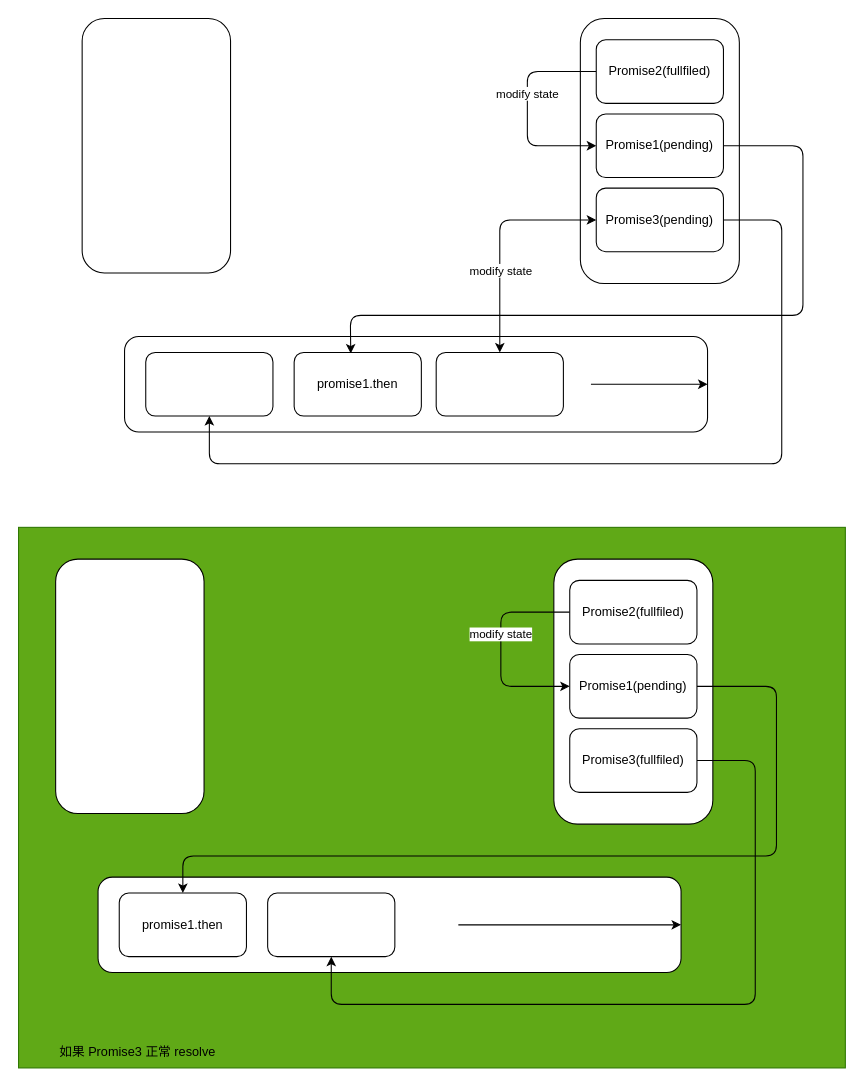
The diagram is 864 pixels wide and 1087 high, and some of its shapes have lost their labels. Here are the shapes that lost their labels. From the top down, the centre of each, then its label:
At [209,383]: "promise3.catch".
At [499,383]: "obj.then".
At [331,924]: "promise3.then".
